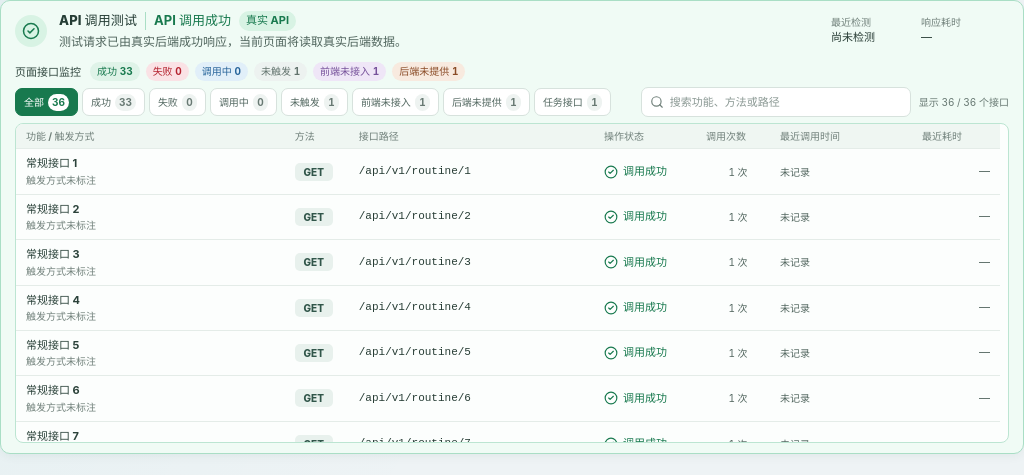
Test case: BackendApiStatusBar › filters large monitoring lists by status, keyword, and task interfaces
Check: the text "显示 36 / 36 个接口" is shown, box [919,95,1009,110]
Click the button "任务接口 1".
click(572, 102)  # box [534,88,611,116]
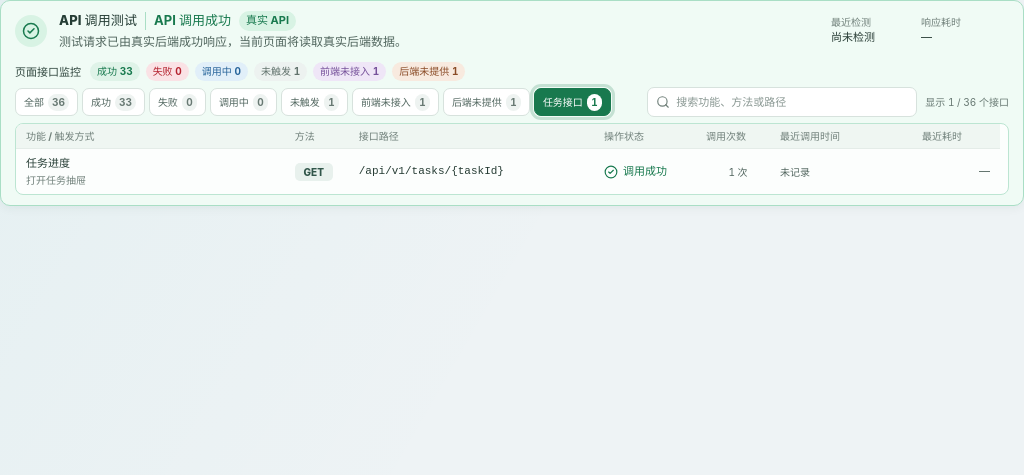
Check: the text "项目列表" is not shown
Check: the text "任务进度" is shown, box [26,156,70,170]
Check: the text "显示 1 / 36 个接口" is shown, box [925,95,1009,110]
Click the button "未触发 1".
click(314, 102)  # box [281,88,348,116]
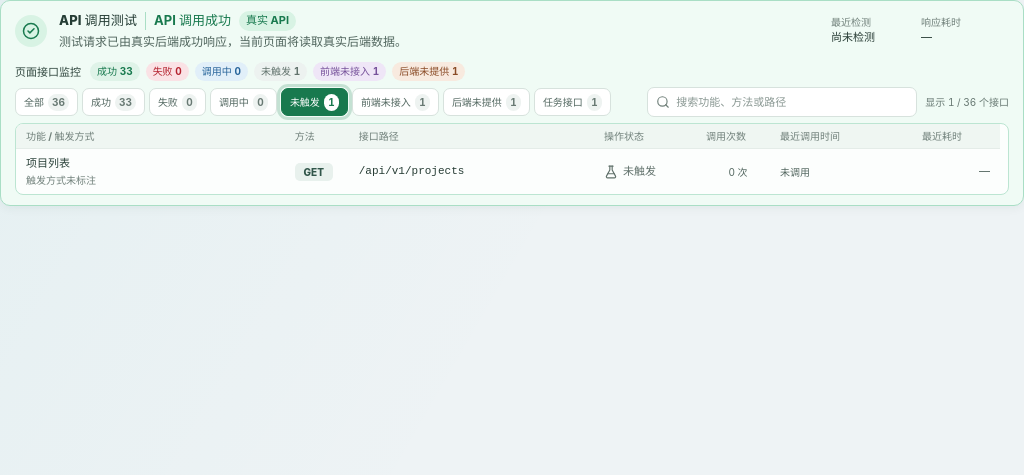
Check: the text "需求确认" is not shown
Check: the text "项目列表" is shown, box [26,156,70,170]
Click the button "后端未提供 1".
click(486, 102)  # box [443,88,530,116]
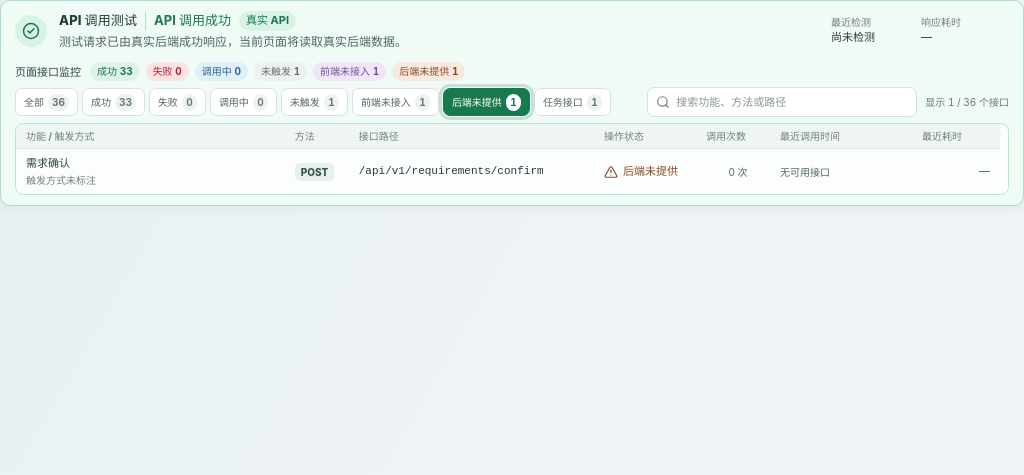
Check: the text "需求确认" is shown, box [26,156,70,170]
Type "get" into the search field named "按功能、方法或接口路径搜索".
click(792, 102); type("get")  # box [676,89,908,116]
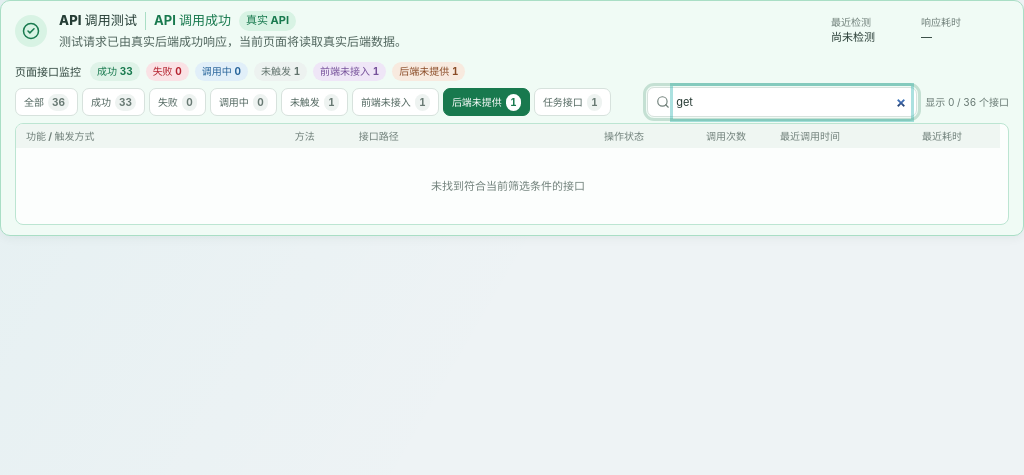
Check: the text "未找到符合当前筛选条件的接口" is shown, box [431,178,585,195]
Replace the text in the search field named "按功能、方法或接口路径搜索" with "confirm" at (792, 102), box [676,89,908,116]
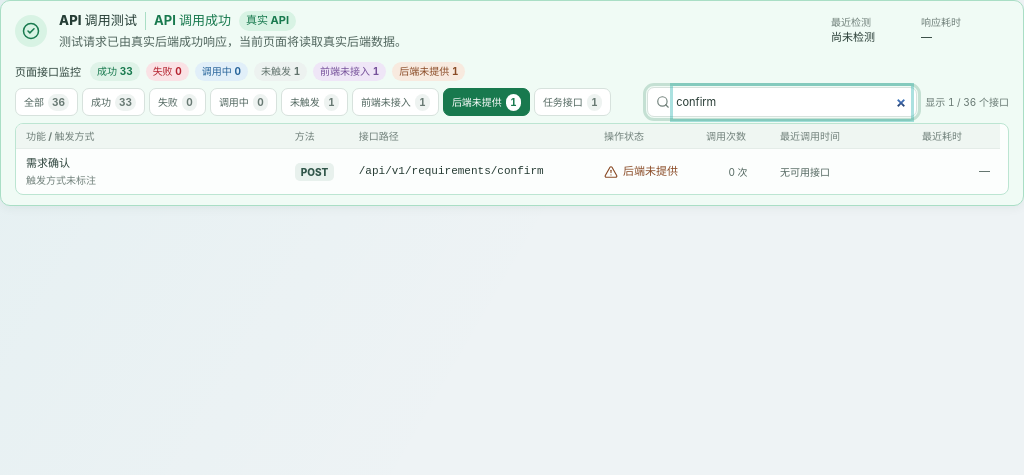
Check: the text "/api/v1/requirements/confirm" is shown, box [359,165,544,177]
Clear the search field named "按功能、方法或接口路径搜索" at (792, 102), box [676,89,908,116]
Click the button "前端未接入 1".
click(395, 102)  # box [352,88,439,116]
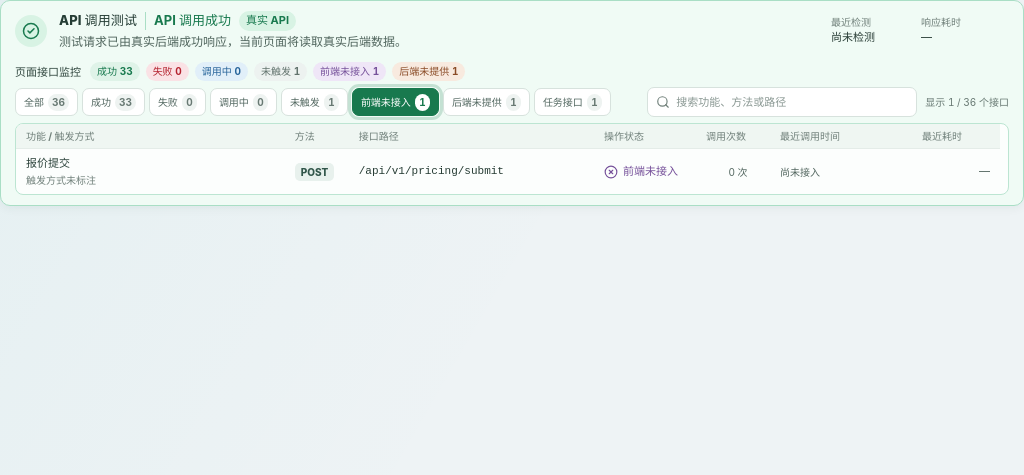
Check: the text "报价提交" is shown, box [26,156,70,170]
Check: the text "需求确认" is gone
